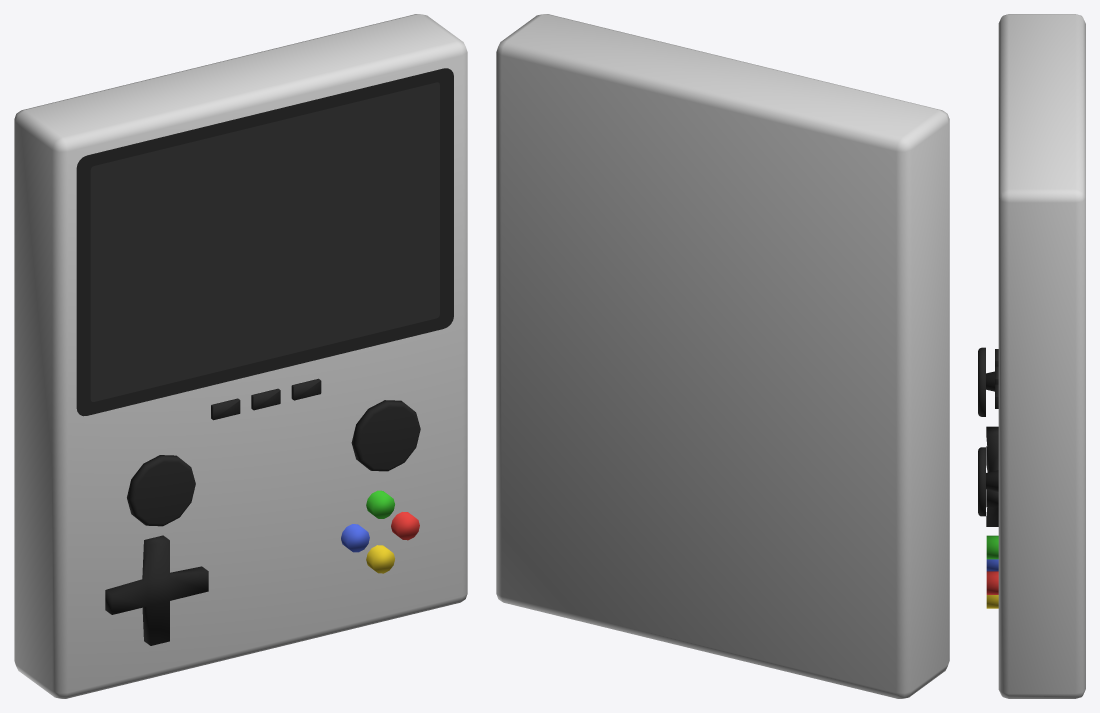
The model's file is Handheld_Console.fbx.
The picture shows the model from 3 angles, left to right: view 1: azimuth 30°, elevation 25°; view 2: azimuth 150°, elevation 25°; view 3: azimuth 270°, elevation 25°; orthographic projection. The views are drawn at different scales.
Visible parts, largest first — view 1: Handheld; view 2: Handheld; view 3: Handheld.
Boxes of the visible parts, x1,y1,x2,y2 form: Handheld: [14, 14, 467, 698]; Handheld: [496, 14, 949, 698]; Handheld: [978, 14, 1085, 698].
Bounding box in the file's own units: 9.24 × 11.98 × 2.3.
